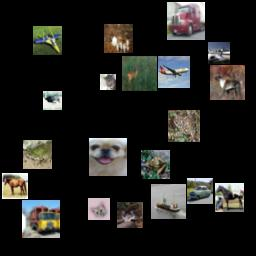airplane: (158, 56, 190, 88), (33, 26, 62, 55), (208, 42, 230, 64)
automobile: (187, 178, 213, 204)
bird: (43, 91, 62, 110)
cat: (117, 202, 143, 228), (88, 198, 110, 220), (100, 74, 116, 90)
deer: (122, 56, 157, 91), (210, 65, 245, 100), (104, 24, 133, 53)
dog: (89, 138, 127, 176)
frog: (168, 110, 200, 142), (23, 140, 52, 169), (141, 150, 170, 179)
ship: (151, 184, 186, 219)
truck: (167, 2, 205, 40), (22, 200, 60, 238)
